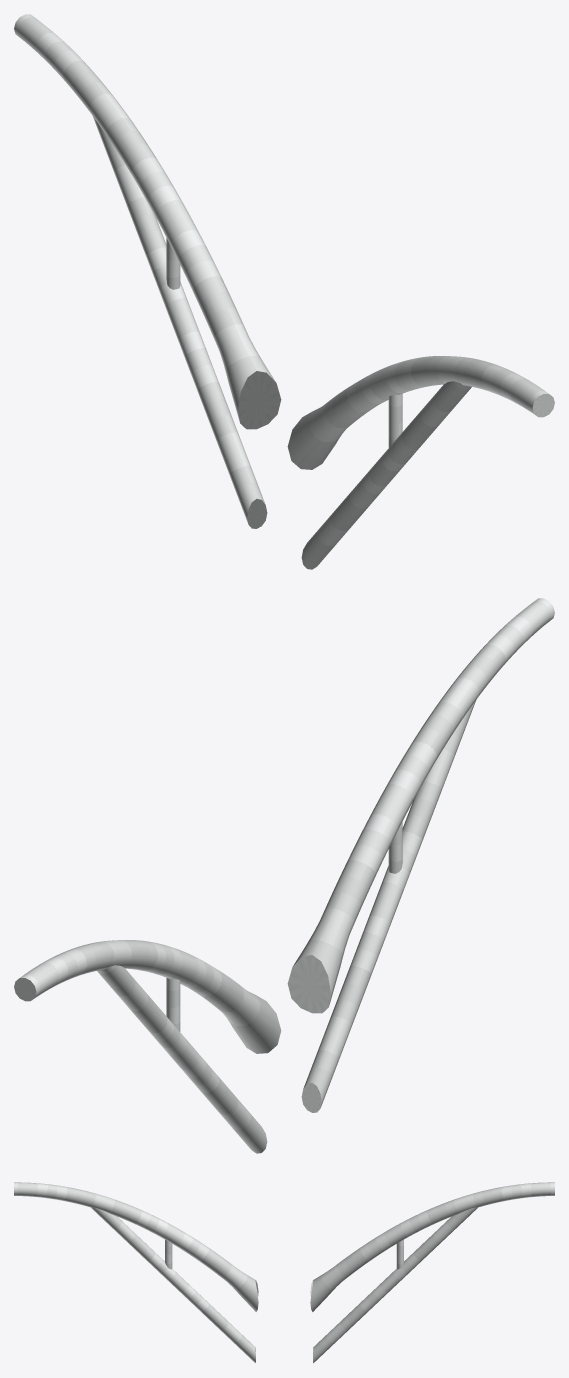
Rendered from luminairearm_truss8ftdouble_inv.obj.
3 views of the same model, one above another, from view 1: azimuth 30°, elevation 25°; view 2: azimuth 150°, elevation 25°; view 3: azimuth 270°, elevation 25° (orthographic). The views are drawn at different scales.
Parts seen in each view (by area): view 1: luminairearm_truss8ftdouble_inv; view 2: luminairearm_truss8ftdouble_inv; view 3: luminairearm_truss8ftdouble_inv.
Boxes of the visible parts, box(x1,y1,x2,y2) form: luminairearm_truss8ftdouble_inv: box(14, 14, 554, 569); luminairearm_truss8ftdouble_inv: box(14, 598, 554, 1153); luminairearm_truss8ftdouble_inv: box(14, 1182, 554, 1362).
Bounding box in the file's own units: 0.0482 × 0.3674 × 1.
